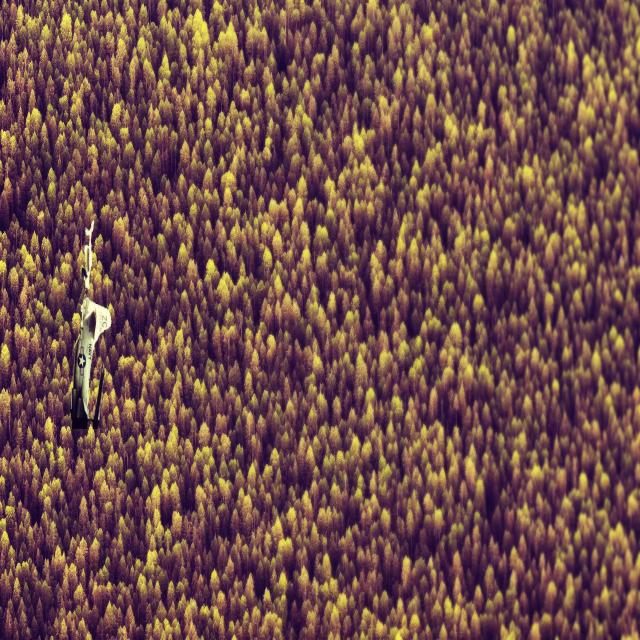airplane: (70, 218, 111, 430)
